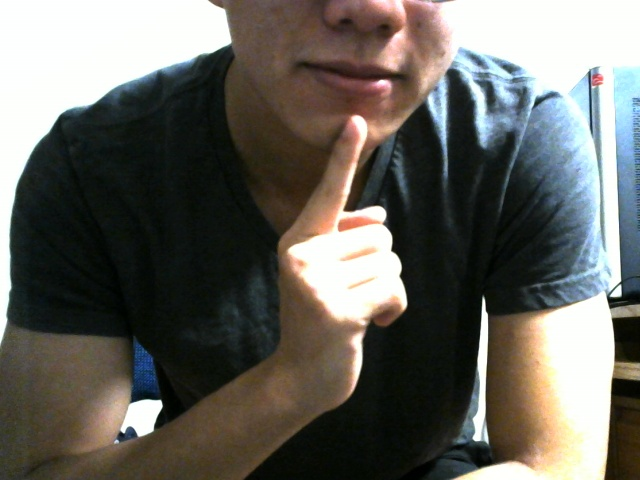deaf: (205, 74, 448, 427)
